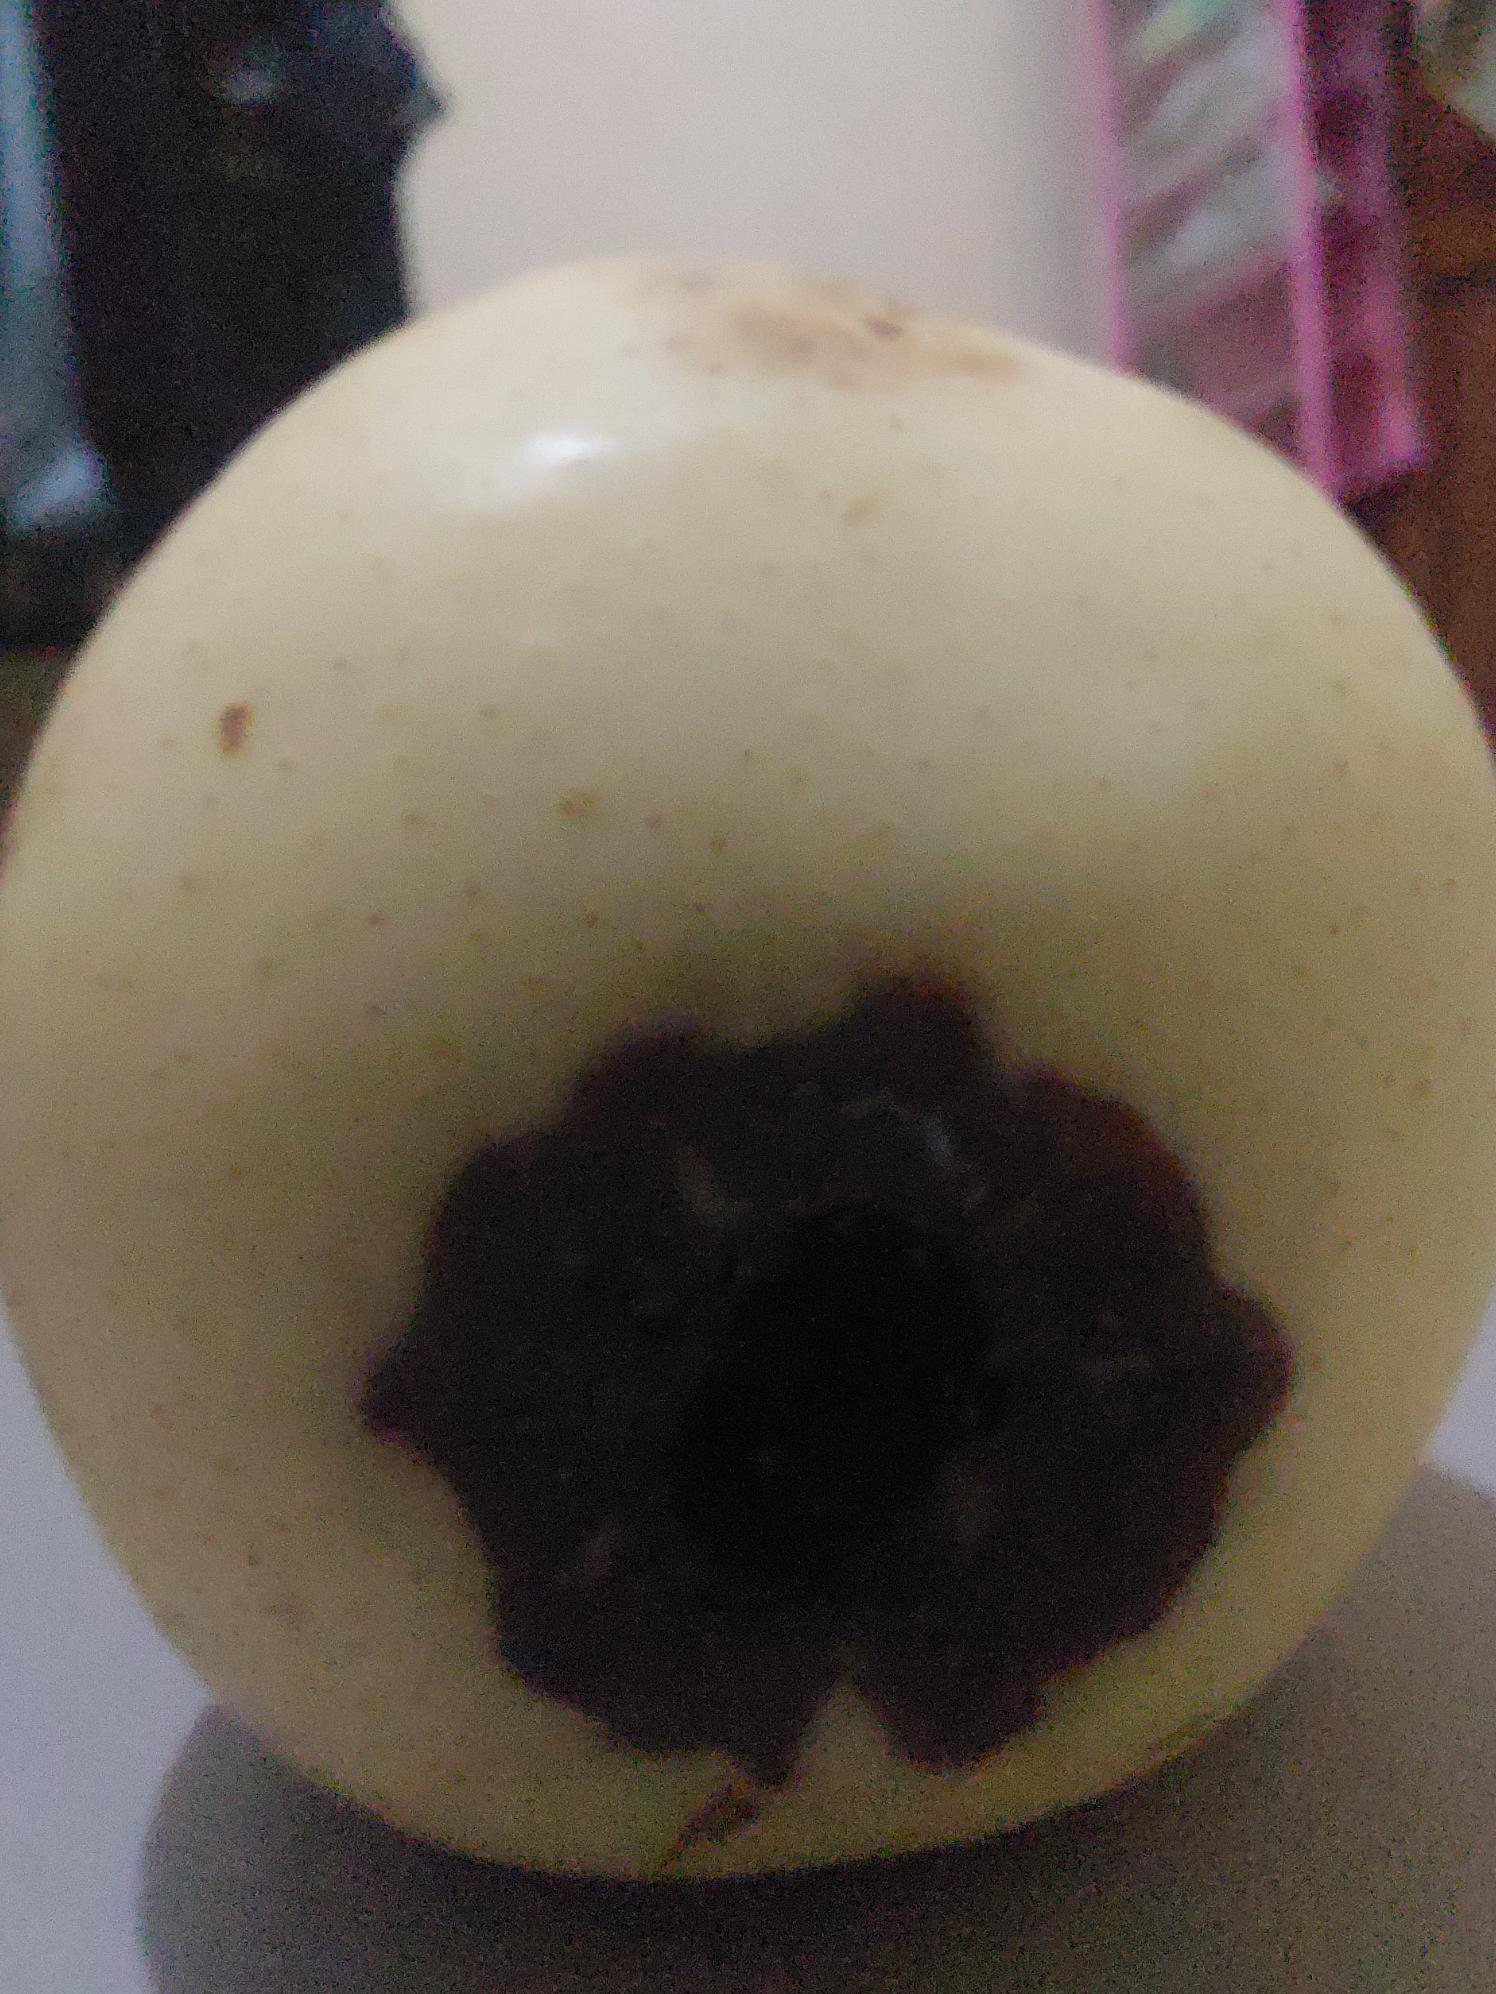Bad Pear: (0, 223, 1496, 1911)
